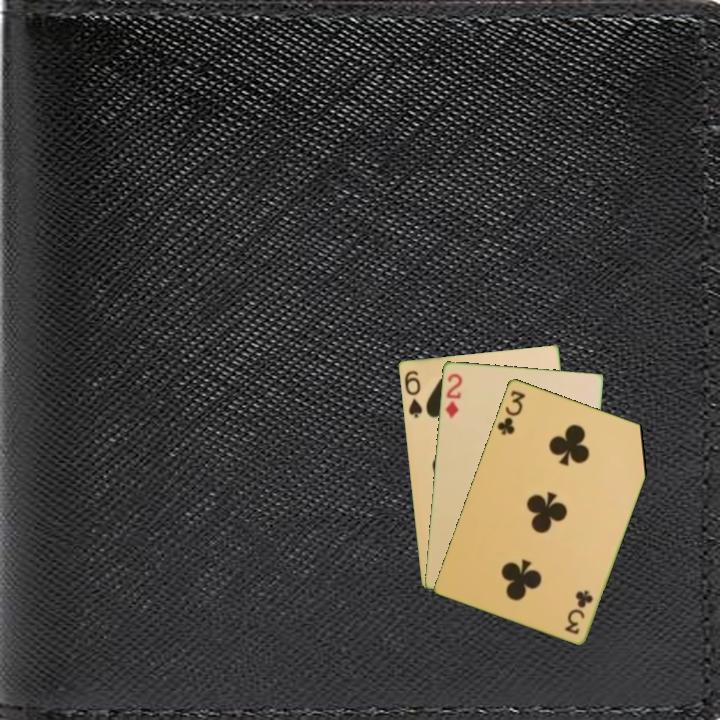2d: (442, 370, 465, 420)
3c: (493, 386, 528, 437), (562, 586, 596, 637)
6s: (401, 367, 425, 420)
